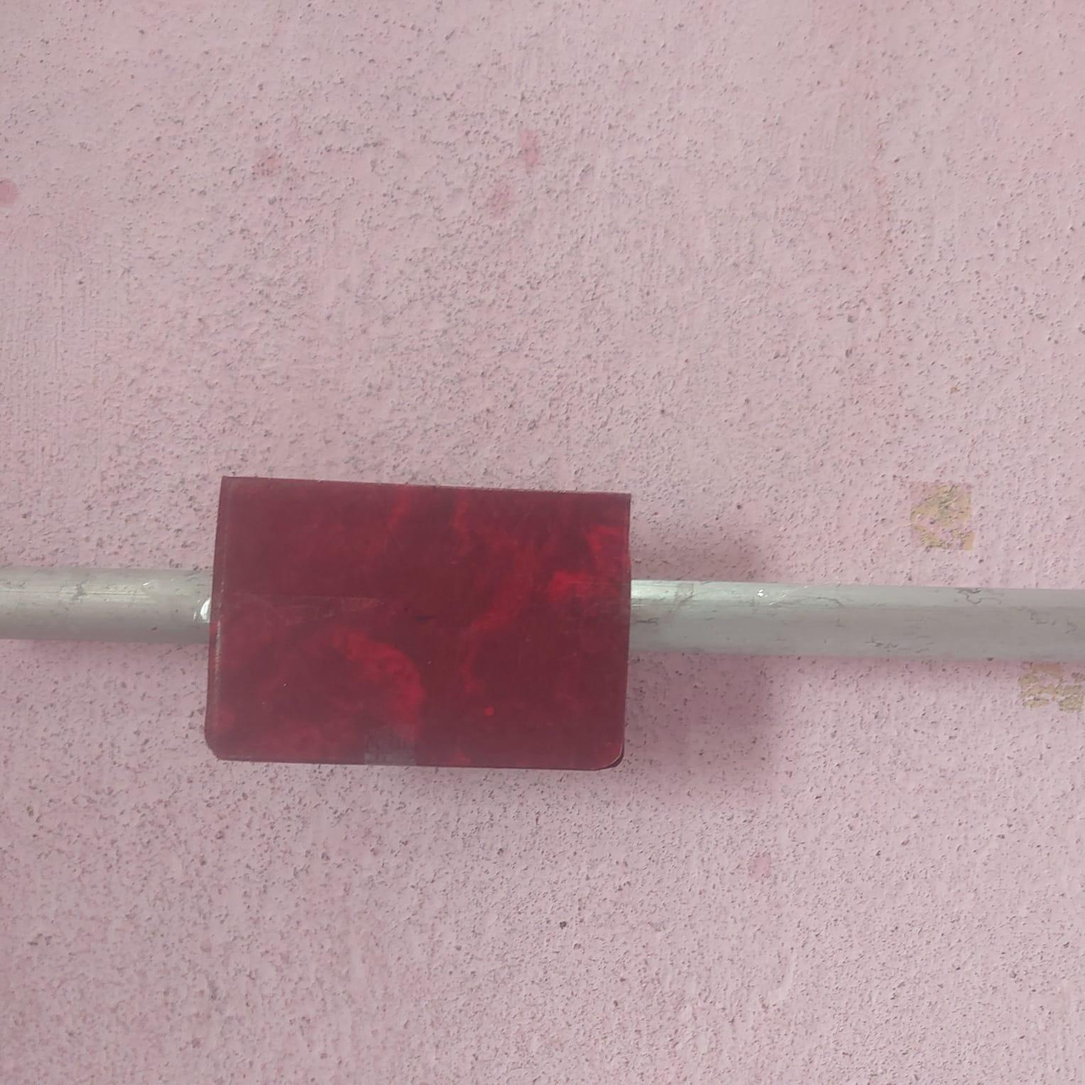wallet: (205, 475, 637, 770)
